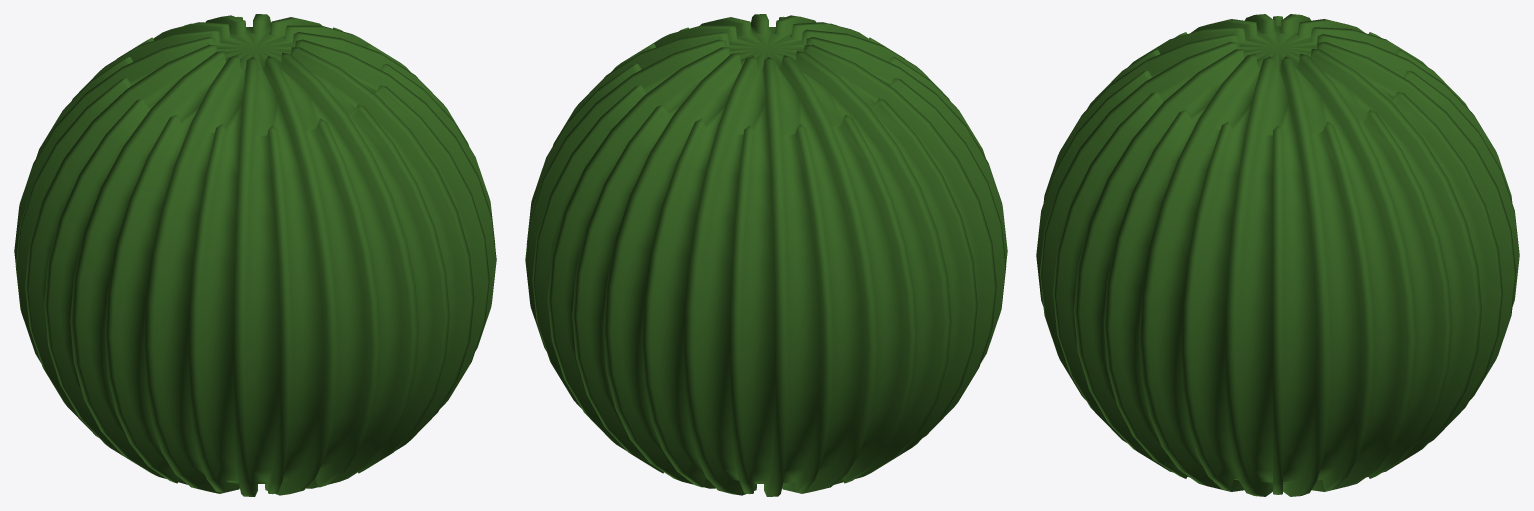
Rendered from dark_green_ribs.glb.
3 renders of one model, left to right at view 1: azimuth 30°, elevation 25°; view 2: azimuth 150°, elevation 25°; view 3: azimuth 270°, elevation 25°, orthographic.
Parts seen in each view (by area): view 1: Sphere.001; view 2: Sphere.001; view 3: Sphere.001.
Part boxes in pixels (bbox=[...]): Sphere.001: bbox=[14, 14, 496, 496]; Sphere.001: bbox=[525, 14, 1007, 496]; Sphere.001: bbox=[1036, 14, 1519, 496].
Size of the model in its own units: 2.11 by 2.08 by 2.11.
